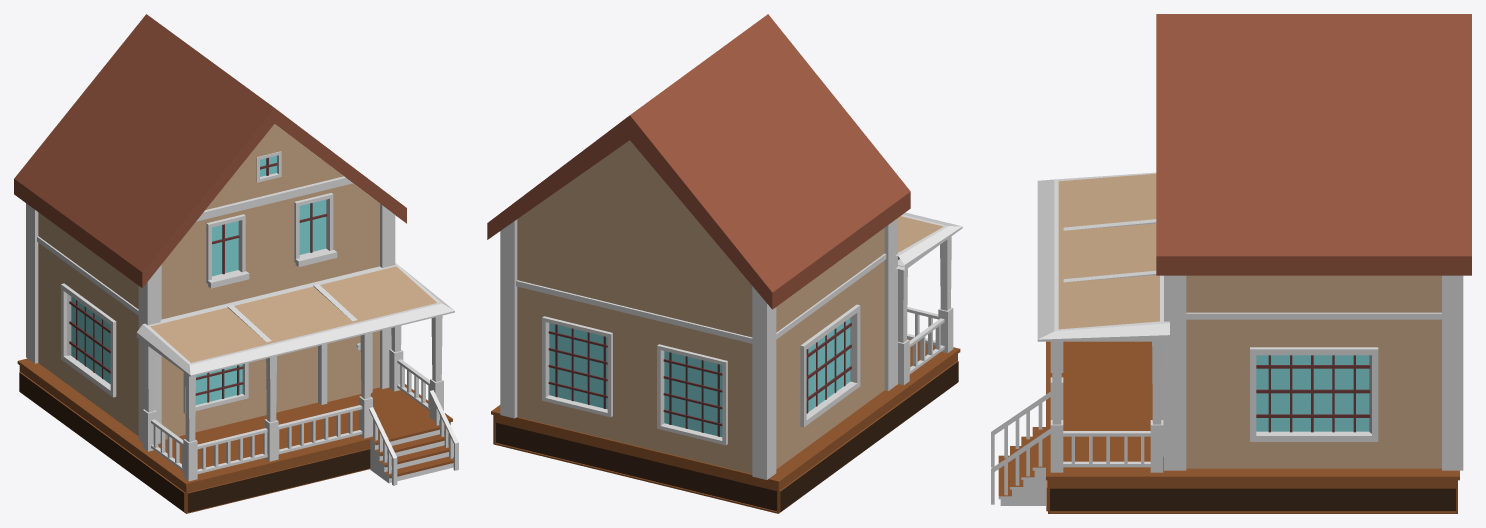
Rendered from house.glb.
3 views of the same model, side by side, from view 1: azimuth 30°, elevation 25°; view 2: azimuth 150°, elevation 25°; view 3: azimuth 270°, elevation 25° (orthographic). The views are drawn at different scales.
Parts seen in each view (by area): view 1: house; view 2: house; view 3: house.
Part boxes in pixels (left/top/right/bottom): house: left=14, top=14, right=458, bottom=513; house: left=487, top=14, right=962, bottom=513; house: left=991, top=14, right=1471, bottom=513.
Size of what is drawn, in the model's own units: 2.02 by 2.47 by 2.56.
